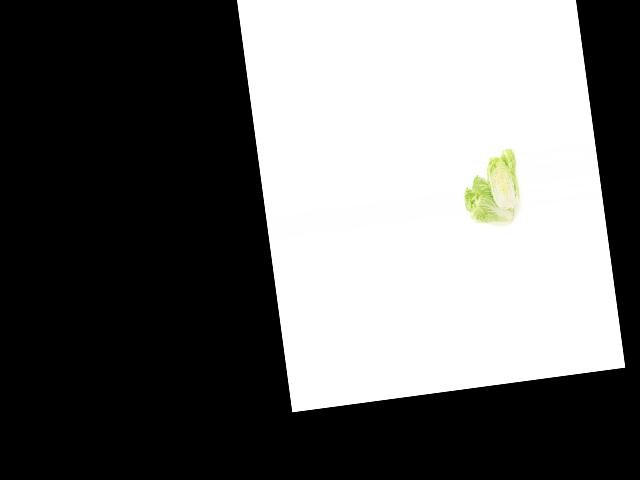lettuce: (458, 167, 518, 232)
